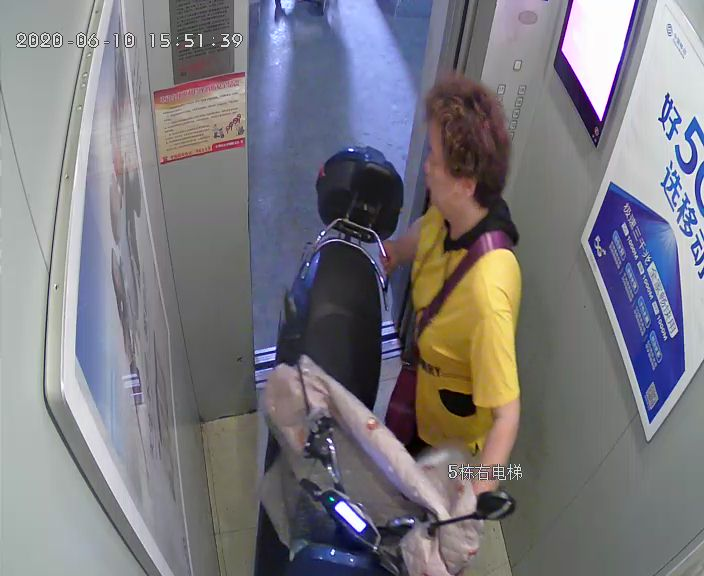Electric-bicycle: (254, 146, 515, 575)
